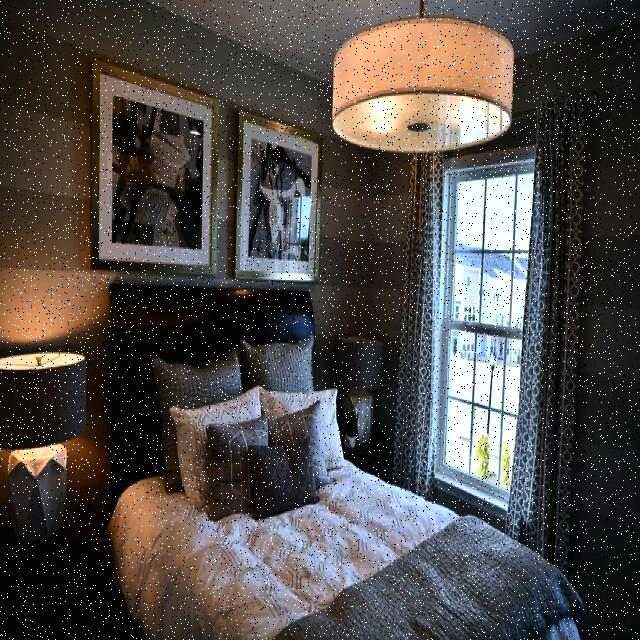bed: (104, 277, 548, 640)
